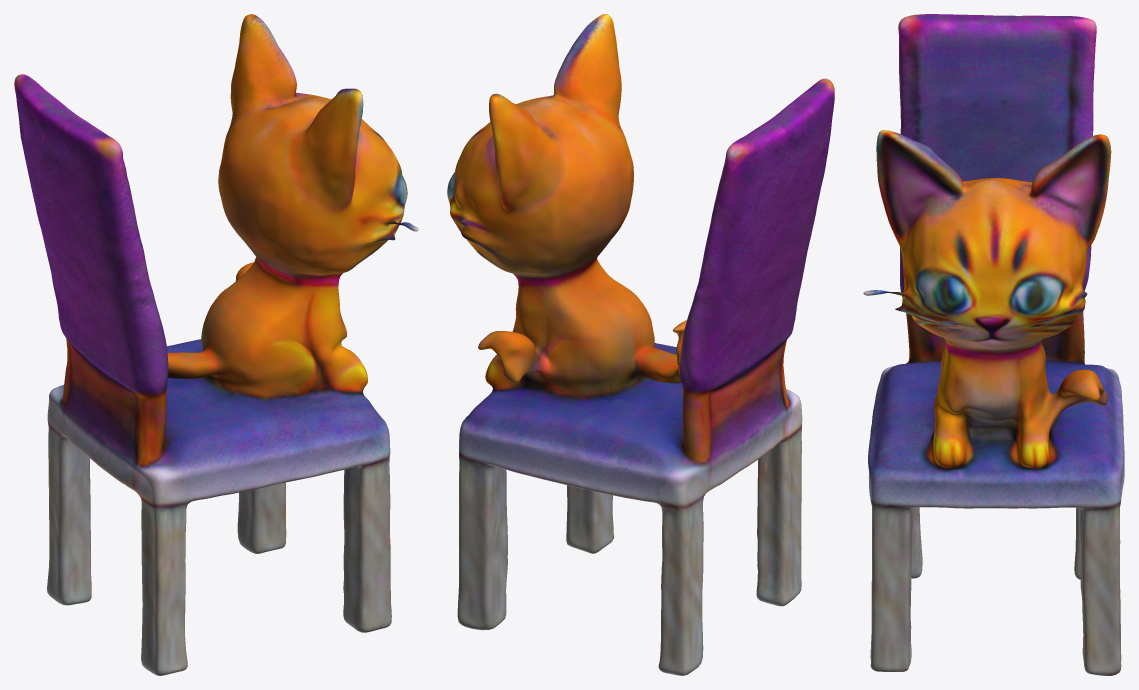
File: 300a2dde1e43_755154d66aa4_a_cat_on_a_chair__c.glb
3 renders of one model, left to right at view 1: azimuth 30°, elevation 25°; view 2: azimuth 150°, elevation 25°; view 3: azimuth 270°, elevation 25°, orthographic.
Visible parts, largest first — view 1: high_poly; view 2: high_poly; view 3: high_poly.
Part boxes in pixels (<box>): high_poly: <box>14,14,418,675</box>; high_poly: <box>447,14,834,675</box>; high_poly: <box>863,14,1124,675</box>.
Bounding box in the file's own units: 0.6423 × 1 × 0.4436.
1 material, 1 textured.
